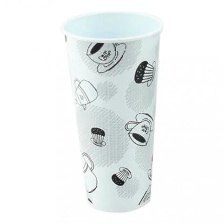paper_cup: (55, 5, 169, 217)
